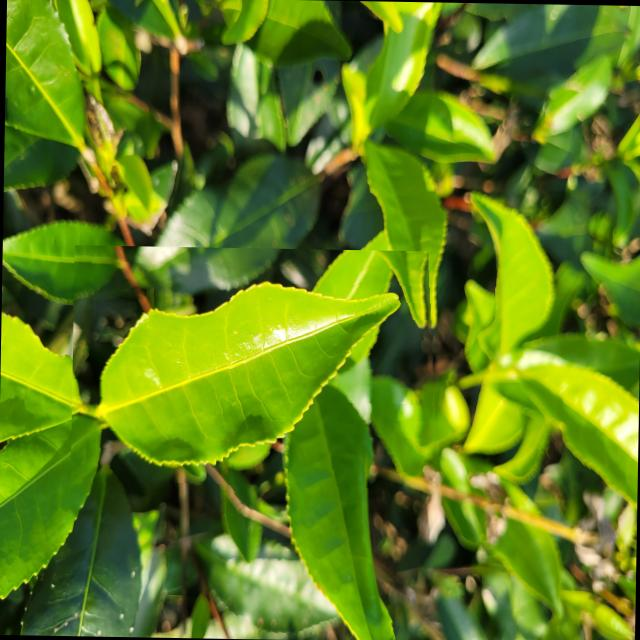Category B(2-4 days): (69, 245, 441, 498)
